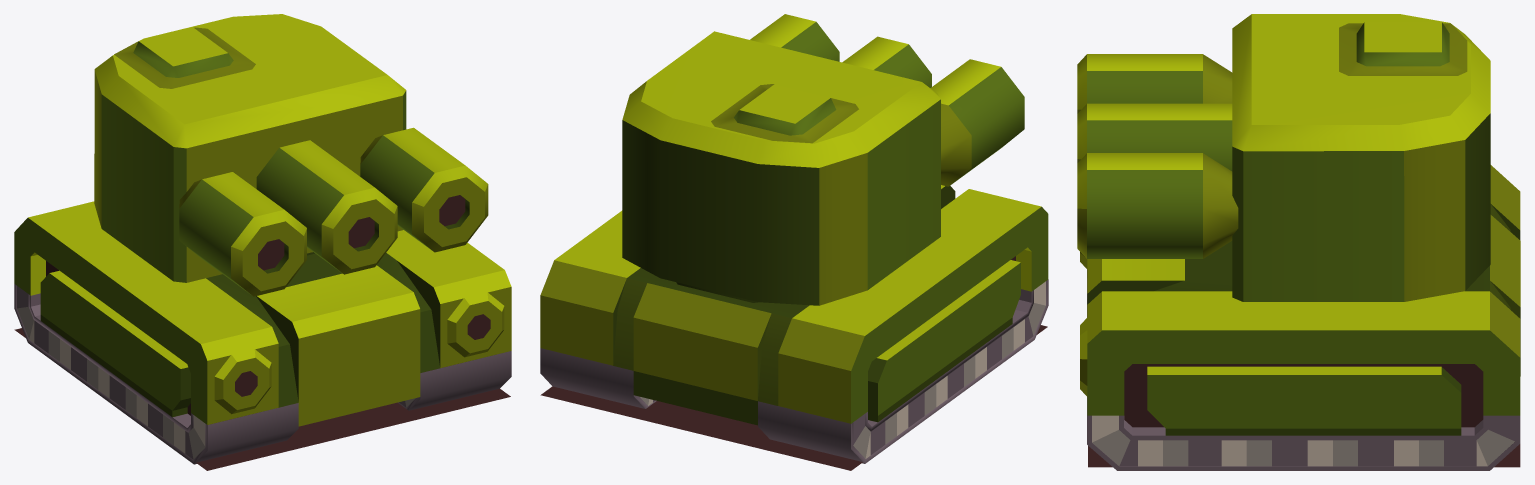
Rendered from MegaTankMesh.AcidRain.glb.
3 renders of one model, left to right at view 1: azimuth 30°, elevation 25°; view 2: azimuth 150°, elevation 25°; view 3: azimuth 270°, elevation 25°, orthographic. The views are drawn at different scales.
Visible parts, largest first — view 1: MegaTankMesh.AcidRain; view 2: MegaTankMesh.AcidRain; view 3: MegaTankMesh.AcidRain.
Boxes of the visible parts, left/top/right/bottom form: MegaTankMesh.AcidRain: left=14, top=14, right=511, bottom=470; MegaTankMesh.AcidRain: left=540, top=14, right=1048, bottom=470; MegaTankMesh.AcidRain: left=1077, top=14, right=1520, bottom=470.
Size of the model in its own units: 2 by 1.86 by 2.25.
Materials: 1 (1 with a texture image).
